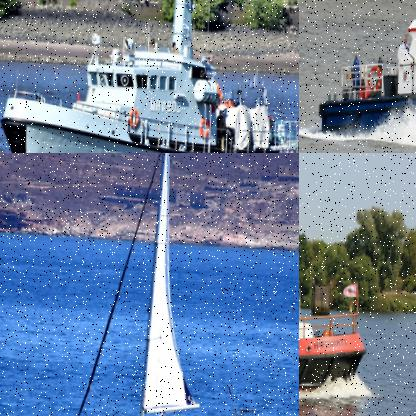Patrol Boat: (0, 0, 298, 152), (316, 0, 415, 152), (299, 205, 374, 404)
Sails Boat: (61, 153, 276, 415)
